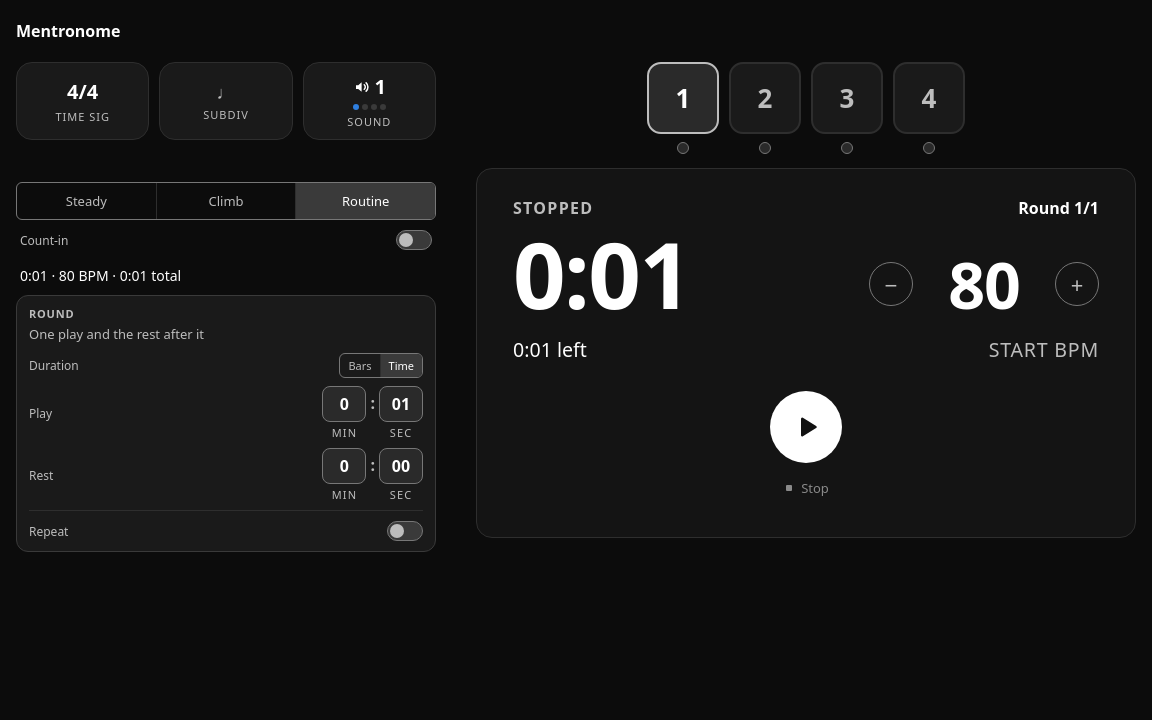
Scenario: App › starts again from the beginning when Play is pressed at the end
What coordinates should you click on to do the following:
click the button named "Play"
I would click on:
 (806, 427)
Its box is [770, 391, 842, 463].
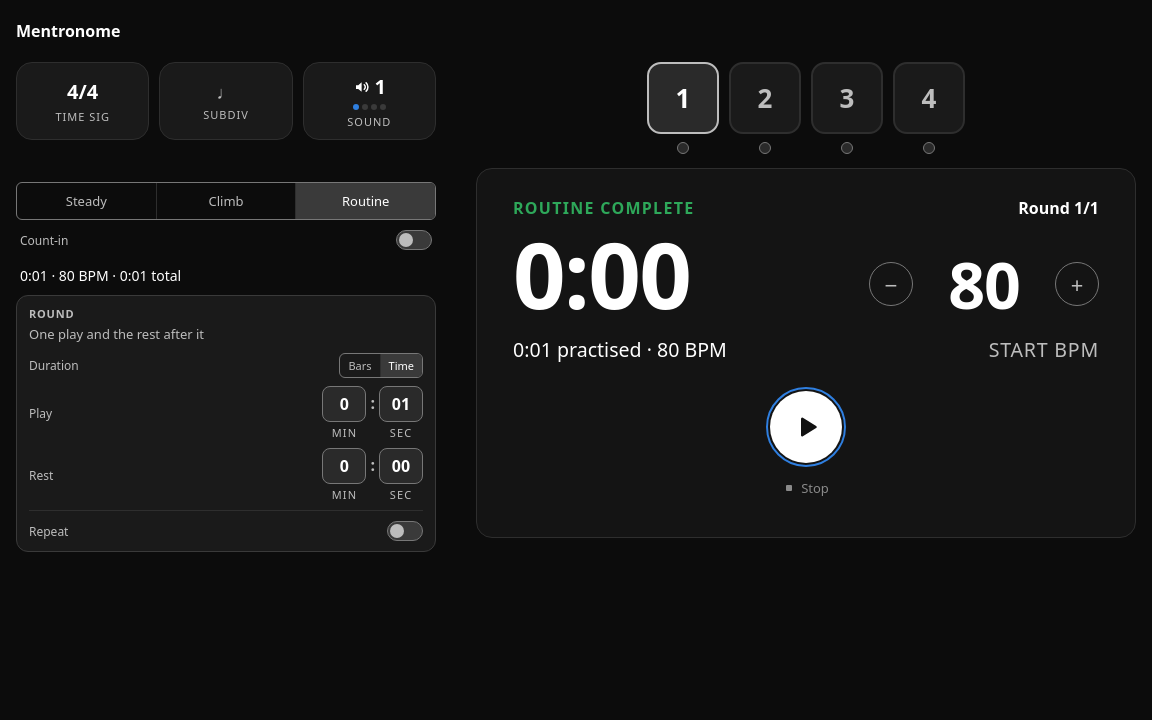
What coordinates should you click on to do the following:
click the button named "Play"
I would click on:
 (806, 427)
Its box is [770, 391, 842, 463].
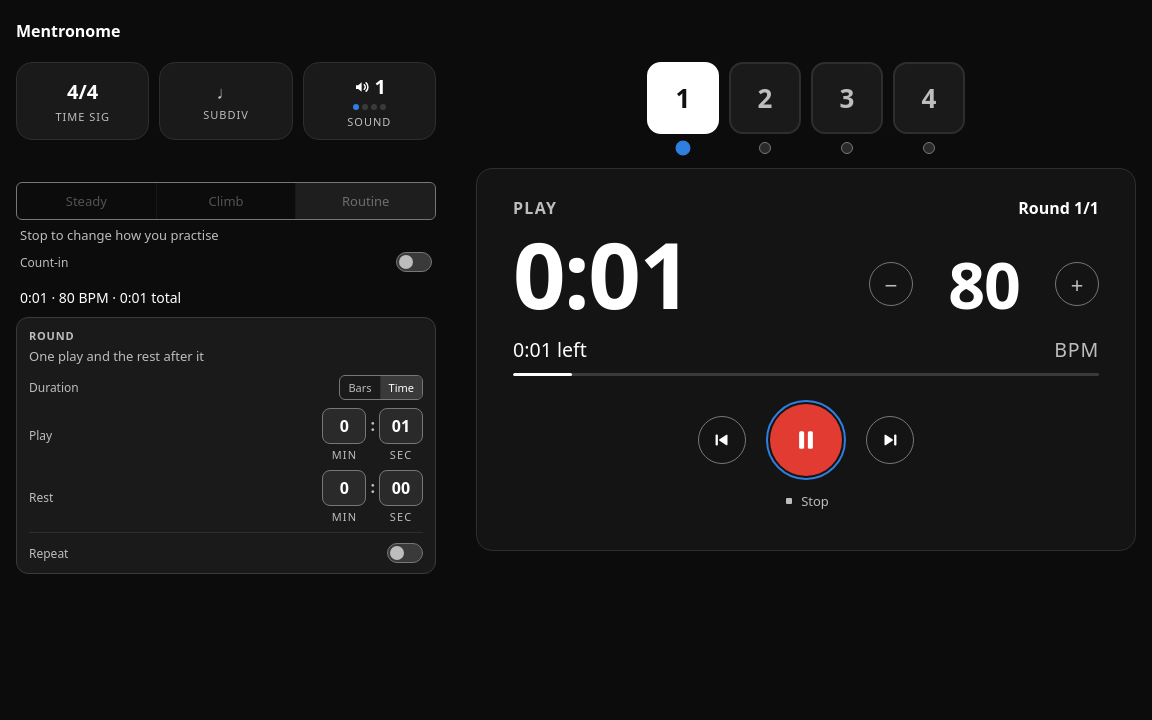
Check: the button named "Pause" is shown, box [770, 404, 842, 476]
